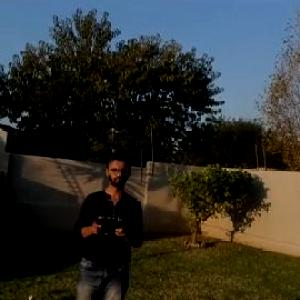follow: (64, 138, 150, 299)
